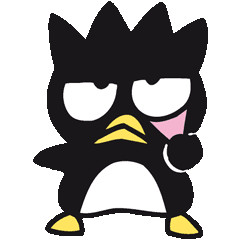batsumaru: (32, 1, 208, 239)
